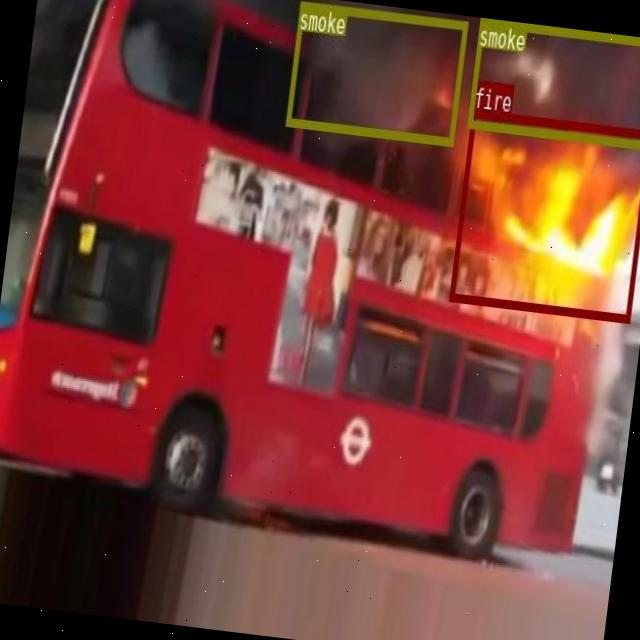fire: (447, 107, 640, 321)
smoke: (284, 0, 466, 144), (466, 17, 640, 146)
